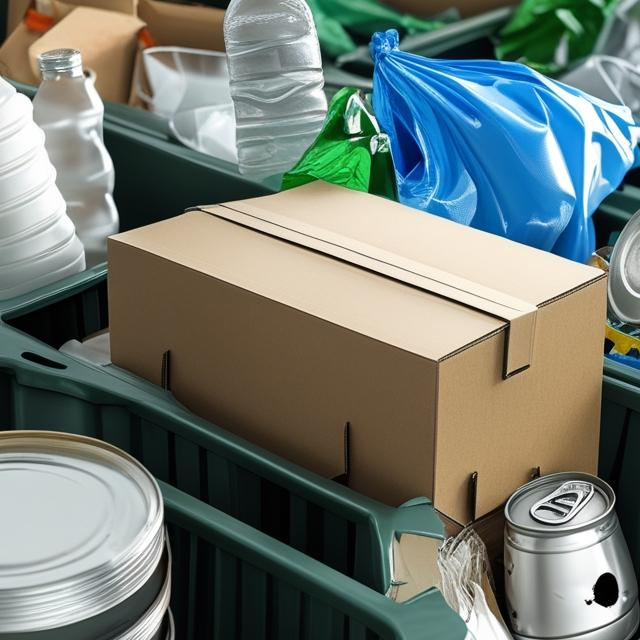metal: (0, 463, 157, 640), (488, 482, 640, 640)
plastic: (376, 33, 617, 234), (220, 0, 329, 184)
